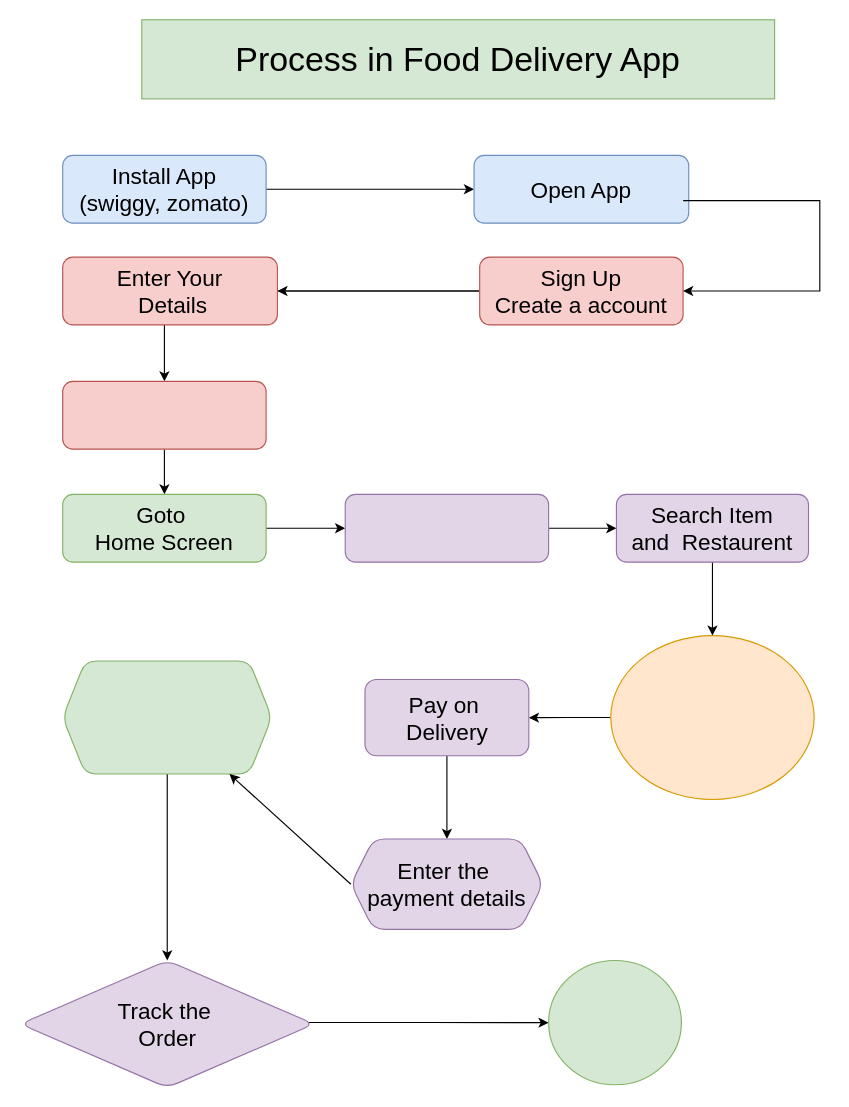
Some shapes in this 849 by 1107 pixel diagram are drawn without their labels. Here are the shapes that lost their labels. From the top down, the box of each, then its label:
(62, 380, 266, 449): Set Password
(344, 493, 549, 562): User Search
(62, 660, 272, 774): Conform Your Order
(610, 634, 814, 799): Select and Add to Cart
(547, 959, 681, 1085): Recieve the Order
